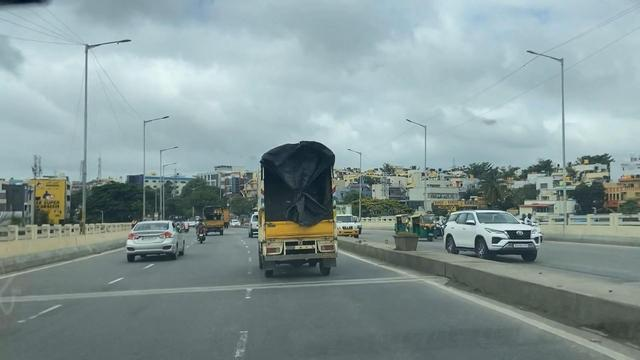HMV: (251, 132, 352, 283)
